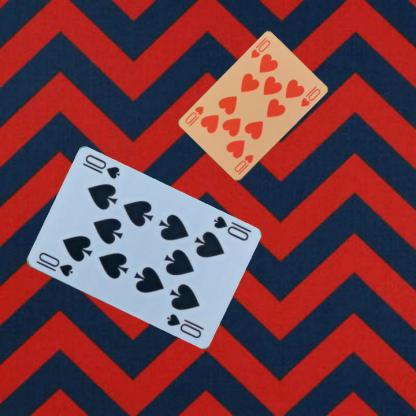10h: (249, 38, 272, 60), (232, 152, 254, 174)
10s: (210, 213, 250, 243), (33, 250, 74, 278)
